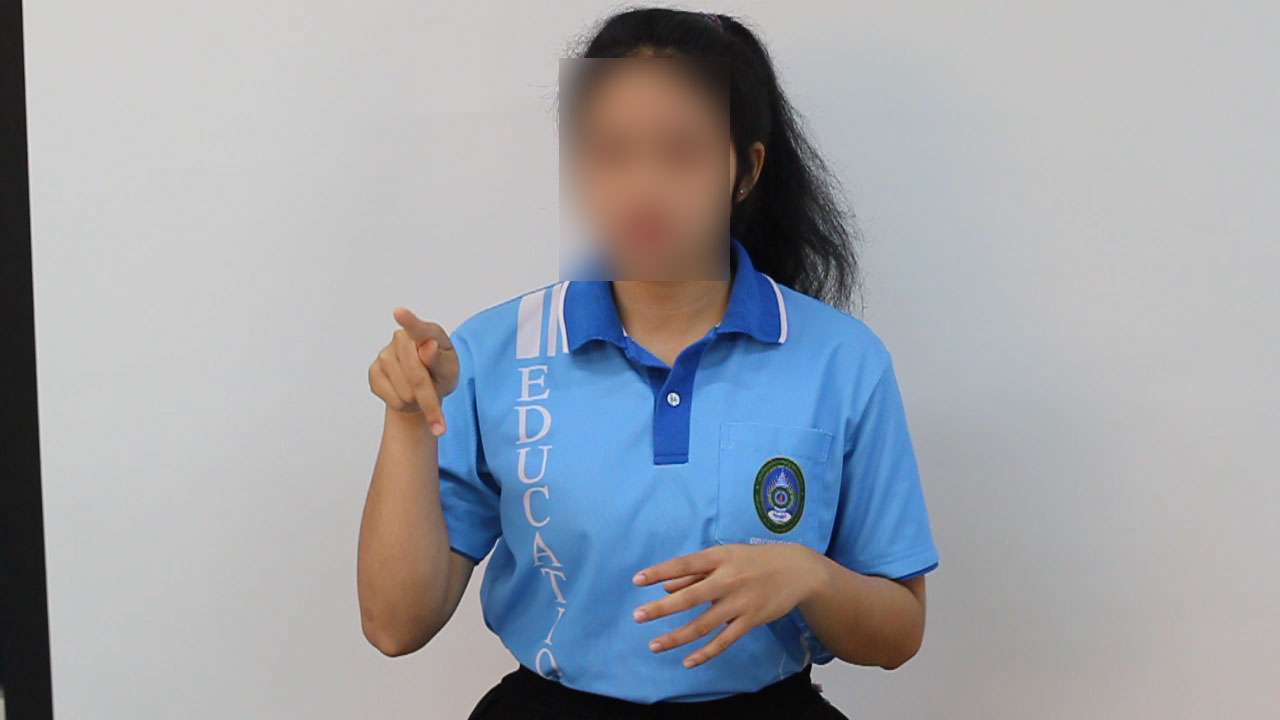por: (334, 288, 477, 448)
